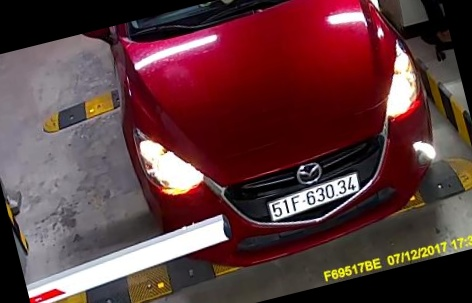plate: (256, 164, 364, 230)
